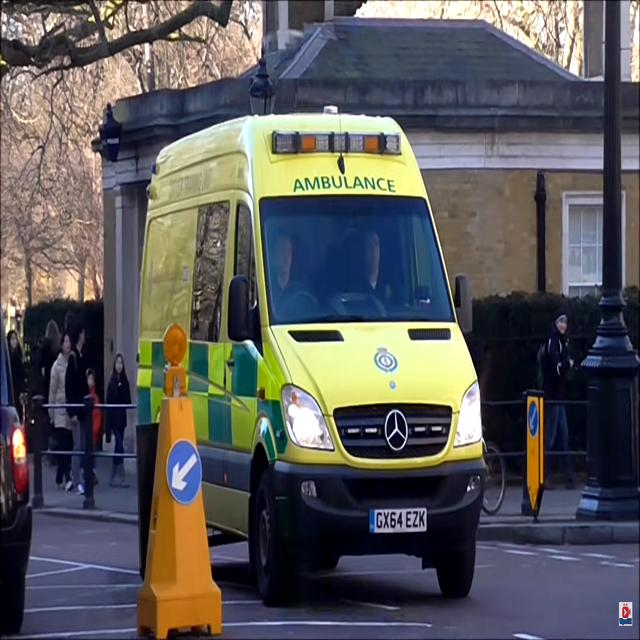emergency-vehicles: (86, 102, 512, 623)
